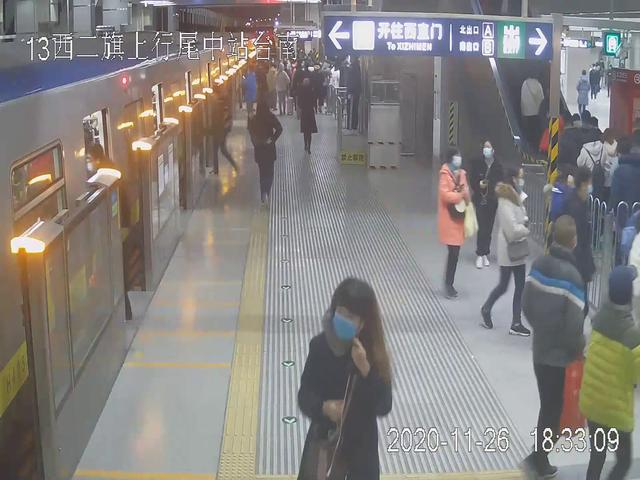person: (291, 269, 389, 480), (520, 207, 590, 480), (581, 262, 640, 480), (490, 160, 541, 337), (434, 142, 475, 304), (470, 125, 506, 272), (246, 97, 285, 206), (210, 85, 242, 177), (293, 75, 321, 158)
